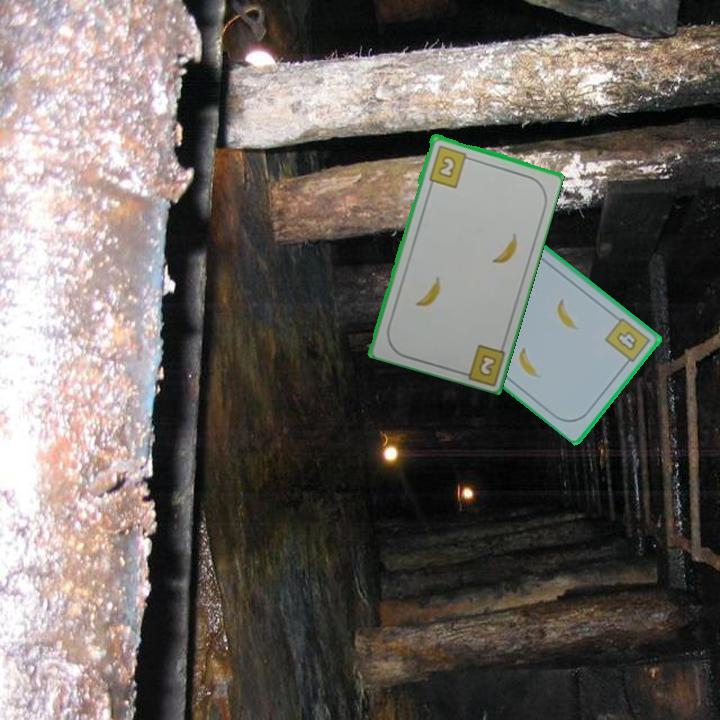2b: (425, 142, 475, 190), (475, 350, 499, 379)
4b: (601, 314, 653, 370)
